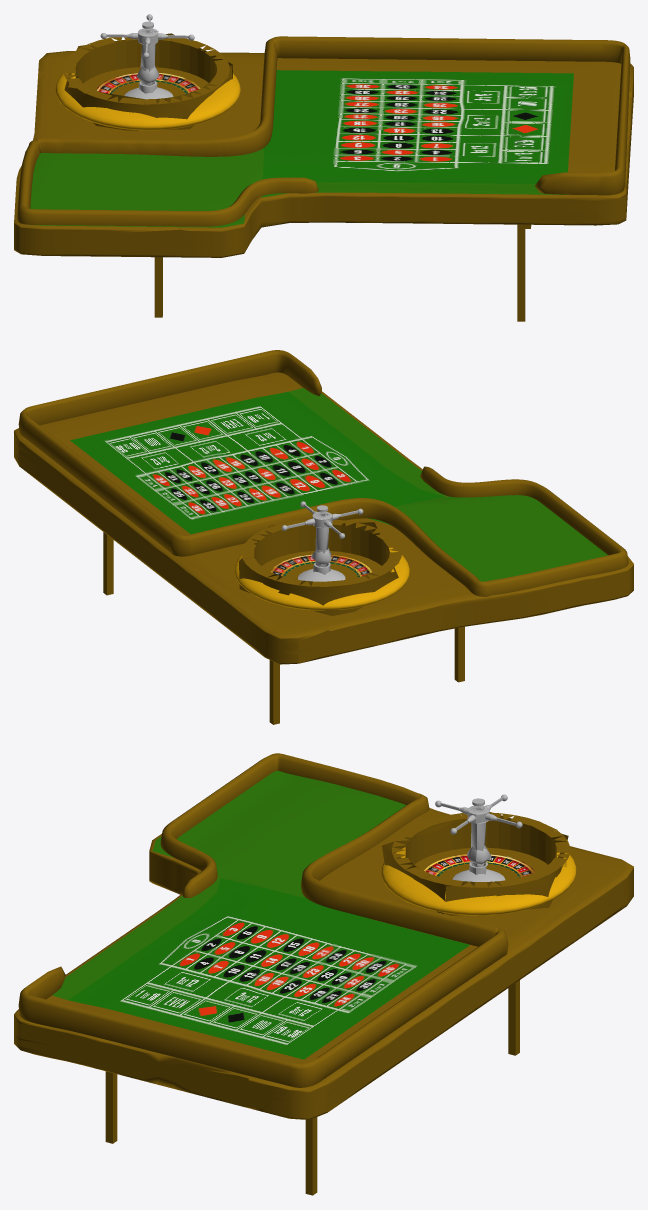
The model's file is roulette.glb.
3 views of the same model, one above another, from view 1: azimuth 30°, elevation 25°; view 2: azimuth 150°, elevation 25°; view 3: azimuth 270°, elevation 25° (orthographic). The views are drawn at different scales.
Visible parts, largest first — view 1: roulette_m9, roulette_m12, roulette_m0, roulette_m10, roulette_m11, roulette_m5, roulette_m6, roulette_m7, roulette_m4, roulette_m14, roulette_m3; view 2: roulette_m12, roulette_m9, roulette_m0, roulette_m10, roulette_m5, roulette_m11, roulette_m6, roulette_m7, roulette_m14, roulette_m2, roulette_m1, roulette_m3; view 3: roulette_m9, roulette_m12, roulette_m0, roulette_m10, roulette_m5, roulette_m6, roulette_m11, roulette_m7, roulette_m1, roulette_m4, roulette_m14, roulette_m2.
Boxes of the visible parts, <box> form: roulette_m9: <box>262,70,573,183</box>; roulette_m12: <box>14,51,633,257</box>; roulette_m0: <box>17,36,630,226</box>; roulette_m10: <box>28,149,566,227</box>; roulette_m11: <box>276,58,621,195</box>; roulette_m5: <box>63,33,232,130</box>; roulette_m6: <box>55,73,240,130</box>; roulette_m7: <box>96,73,200,93</box>; roulette_m4: <box>517,224,525,321</box>; roulette_m14: <box>136,44,159,93</box>; roulette_m3: <box>154,257,162,317</box>; roulette_m12: <box>14,391,633,664</box>; roulette_m9: <box>70,392,444,534</box>; roulette_m0: <box>18,350,628,596</box>; roulette_m10: <box>288,388,607,581</box>; roulette_m5: <box>239,519,401,615</box>; roulette_m11: <box>40,372,302,535</box>; roulette_m6: <box>234,547,409,610</box>; roulette_m7: <box>271,554,372,576</box>; roulette_m14: <box>311,527,331,574</box>; roulette_m2: <box>269,660,279,724</box>; roulette_m1: <box>103,532,113,595</box>; roulette_m3: <box>454,626,464,682</box>; roulette_m9: <box>68,878,469,1059</box>; roulette_m12: <box>14,808,633,1119</box>; roulette_m0: <box>18,753,508,1087</box>; roulette_m10: <box>52,770,406,999</box>; roulette_m5: <box>382,812,570,915</box>; roulette_m6: <box>381,847,576,915</box>; roulette_m11: <box>46,945,477,1064</box>; roulette_m7: <box>424,854,534,877</box>; roulette_m1: <box>305,1117,317,1195</box>; roulette_m4: <box>105,1071,117,1143</box>; roulette_m14: <box>467,822,491,874</box>; roulette_m2: <box>508,980,519,1055</box>.
Bounding box in the file's own units: 2.51 × 0.8407 × 2.01.
12 materials, 2 textured.
